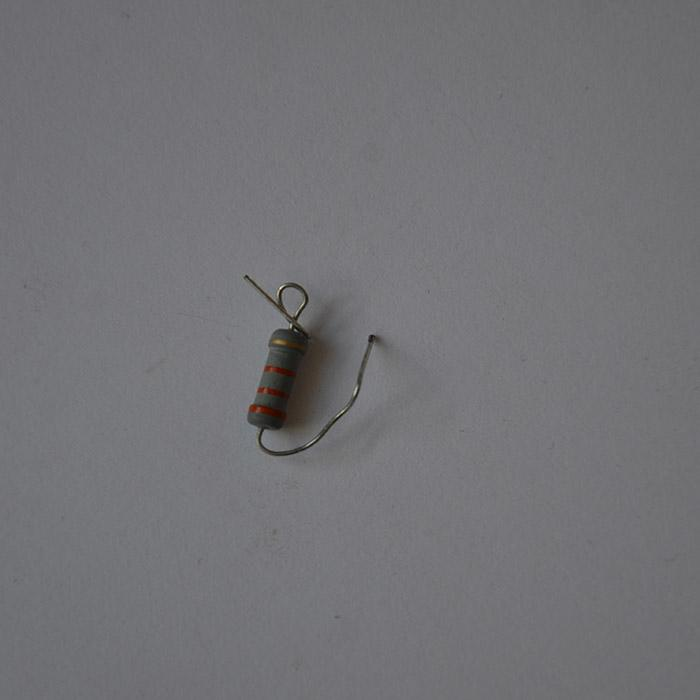resistor: (247, 326, 309, 432)
